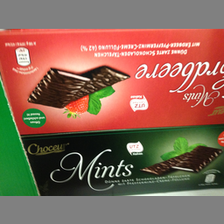chocolate: (1, 28, 224, 134), (19, 126, 224, 196)
